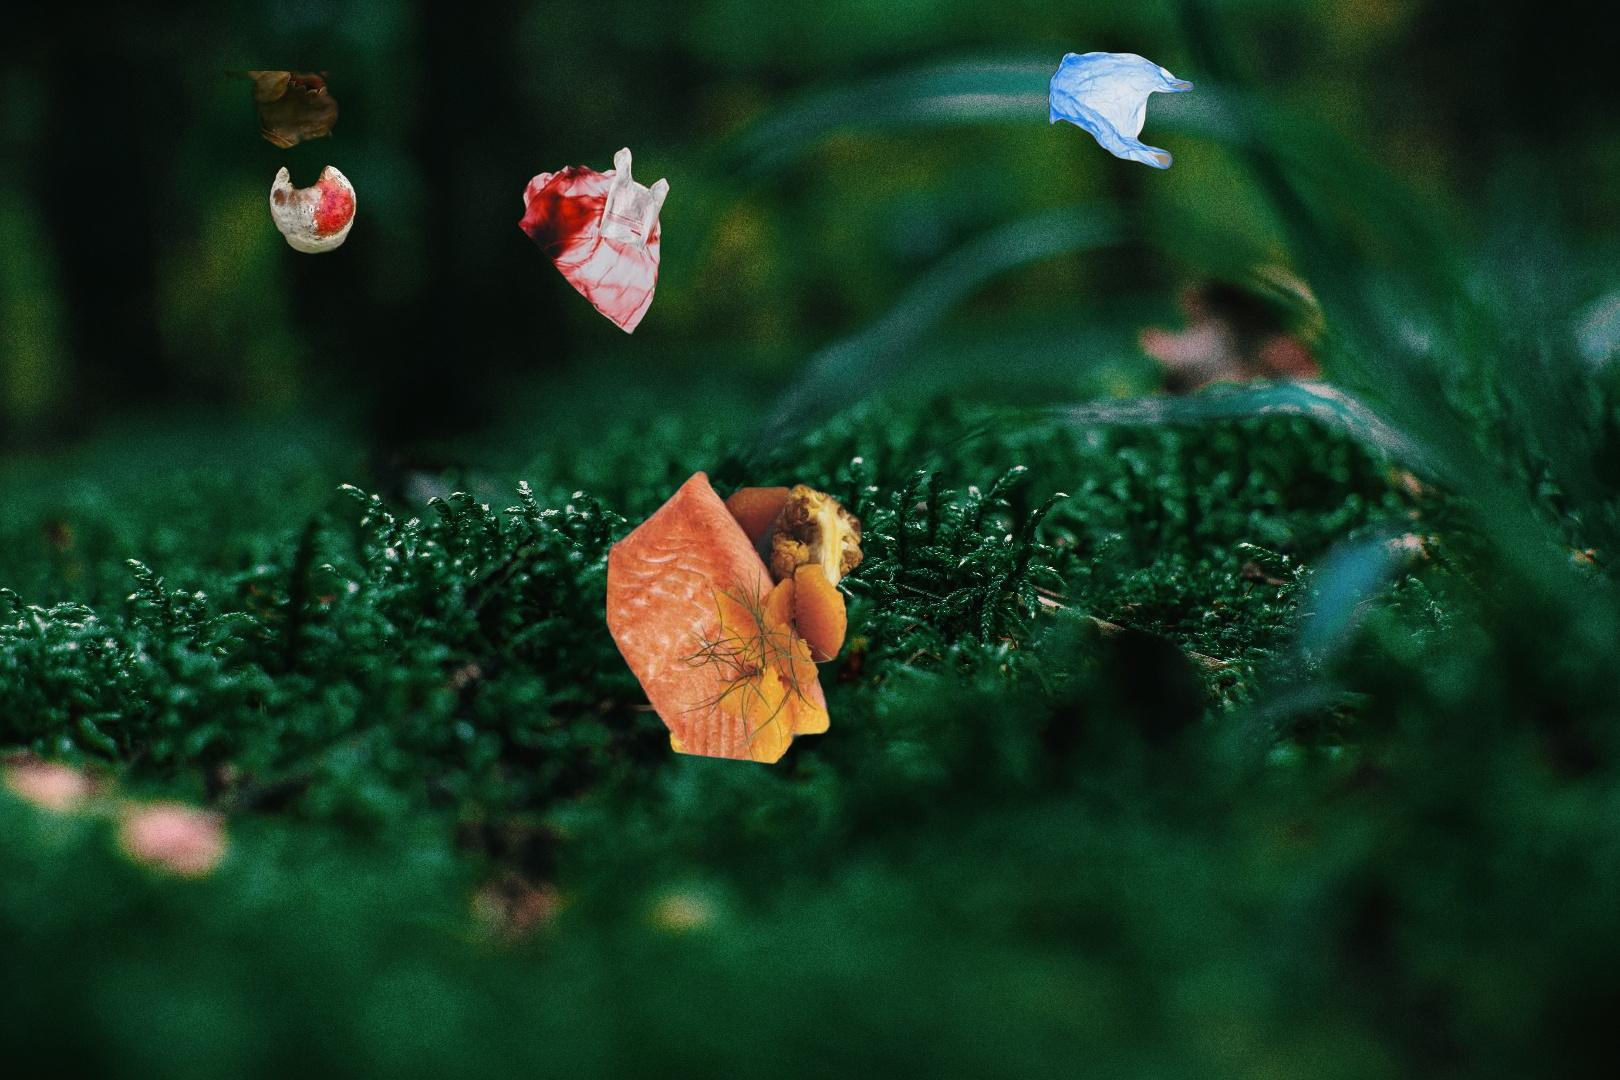biological: (182, 71, 383, 265)
paper: (601, 466, 902, 791)
plastic-bag: (517, 146, 673, 337), (1046, 49, 1198, 174)
